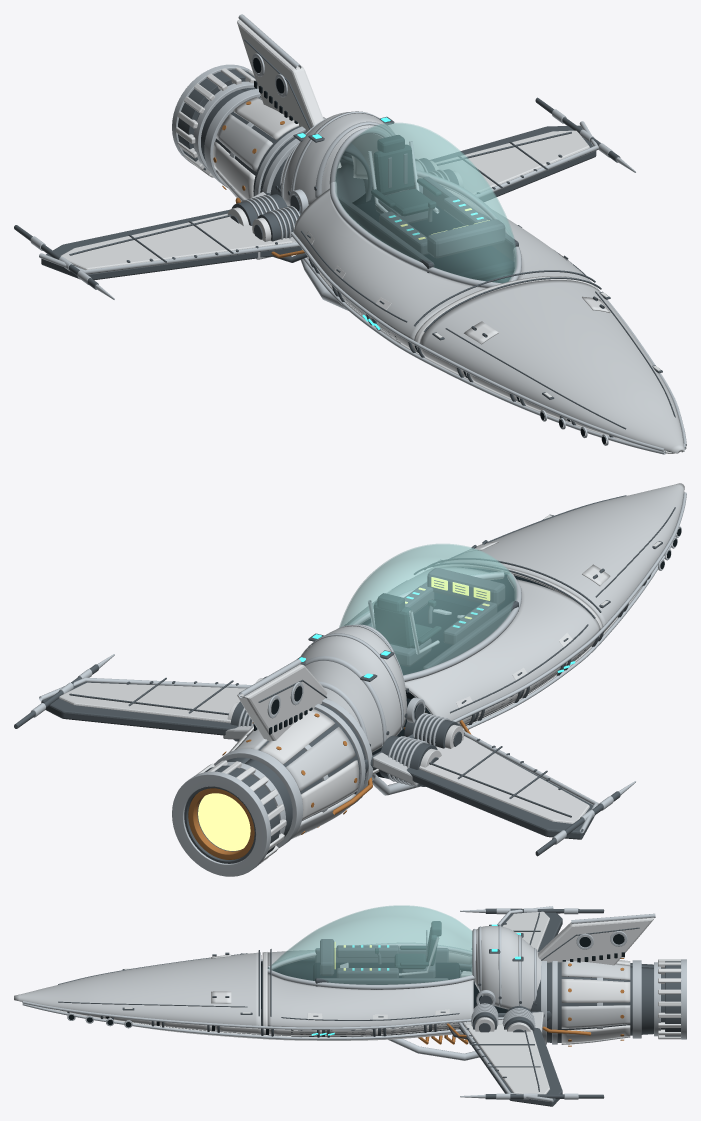
File: 03_Silver_Interceptor.glb
3 renders of one model, top to bottom at view 1: azimuth 30°, elevation 25°; view 2: azimuth 150°, elevation 25°; view 3: azimuth 270°, elevation 25°, orthographic. The views are drawn at different scales.
Visible parts, largest first — view 1: 01_Fuselage_and_nose, 04_Canopy_glazing_and_rim, 03_Cockpit_interior, 06_Main_engine, 08_Port_wing, 09_Starboard_wing, 05_Aft_cockpit_armor, 10_Rear_dorsal_fin, 07_Auxiliary_mechanisms, 02_Ventral_machinery; view 2: 01_Fuselage_and_nose, 06_Main_engine, 04_Canopy_glazing_and_rim, 08_Port_wing, 09_Starboard_wing, 03_Cockpit_interior, 05_Aft_cockpit_armor, 10_Rear_dorsal_fin, 07_Auxiliary_mechanisms, 02_Ventral_machinery; view 3: 01_Fuselage_and_nose, 04_Canopy_glazing_and_rim, 06_Main_engine, 03_Cockpit_interior, 09_Starboard_wing, 05_Aft_cockpit_armor, 10_Rear_dorsal_fin, 08_Port_wing, 02_Ventral_machinery, 07_Auxiliary_mechanisms.
Part boxes in pixels (x1=…): 01_Fuselage_and_nose: x1=291, y1=177, x2=686, y2=454; 04_Canopy_glazing_and_rim: x1=329, y1=123, x2=521, y2=287; 03_Cockpit_interior: x1=339, y1=135, x2=518, y2=280; 06_Main_engine: x1=172, y1=64, x2=372, y2=203; 08_Port_wing: x1=14, y1=192, x2=301, y2=299; 09_Starboard_wing: x1=402, y1=97, x2=635, y2=201; 05_Aft_cockpit_armor: x1=275, y1=111, x2=423, y2=213; 10_Rear_dorsal_fin: x1=237, y1=14, x2=341, y2=168; 07_Auxiliary_mechanisms: x1=227, y1=158, x2=463, y2=262; 02_Ventral_machinery: x1=260, y1=155, x2=491, y2=343; 01_Fuselage_and_nose: x1=344, y1=483, x2=686, y2=774; 06_Main_engine: x1=172, y1=698, x2=372, y2=876; 04_Canopy_glazing_and_rim: x1=339, y1=544, x2=521, y2=681; 08_Port_wing: x1=372, y1=730, x2=635, y2=856; 09_Starboard_wing: x1=14, y1=654, x2=252, y2=739; 03_Cockpit_interior: x1=367, y1=568, x2=518, y2=698; 05_Aft_cockpit_armor: x1=297, y1=625, x2=425, y2=752; 10_Rear_dorsal_fin: x1=237, y1=659, x2=327, y2=741; 07_Auxiliary_mechanisms: x1=227, y1=676, x2=471, y2=786; 02_Ventral_machinery: x1=364, y1=649, x2=585, y2=795; 01_Fuselage_and_nose: x1=14, y1=947, x2=507, y2=1040; 04_Canopy_glazing_and_rim: x1=267, y1=905, x2=476, y2=989; 06_Main_engine: x1=530, y1=958, x2=686, y2=1046; 03_Cockpit_interior: x1=313, y1=921, x2=459, y2=986; 09_Starboard_wing: x1=458, y1=1012, x2=604, y2=1106; 05_Aft_cockpit_armor: x1=474, y1=924, x2=541, y2=1010; 10_Rear_dorsal_fin: x1=538, y1=913, x2=655, y2=965; 08_Port_wing: x1=460, y1=906, x2=604, y2=981; 02_Ventral_machinery: x1=291, y1=957, x2=551, y2=1060; 07_Auxiliary_mechanisms: x1=446, y1=965, x2=535, y2=1039.
Size of the model in its own units: 9.02 by 2.94 by 13.22.
